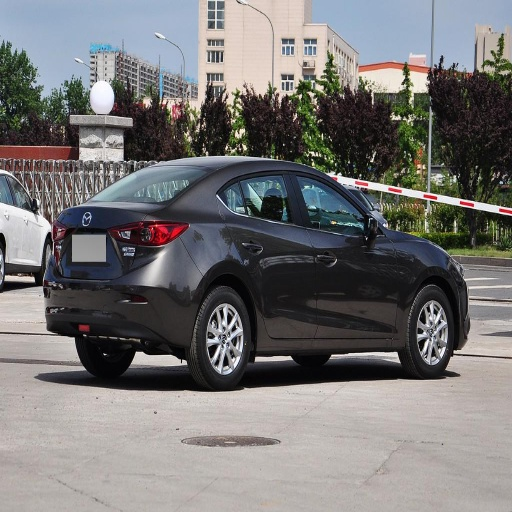_background_: (46, 245, 200, 344)
back_bumper: (101, 163, 206, 202)
back_left_door: (46, 226, 68, 270)
back_left_light: (230, 169, 315, 339)
back_right_door: (135, 221, 187, 262)
front_left_light: (294, 170, 397, 338)
right_mirror: (60, 203, 152, 277)
trunk: (192, 286, 253, 389), (406, 286, 459, 377), (77, 338, 131, 384)
